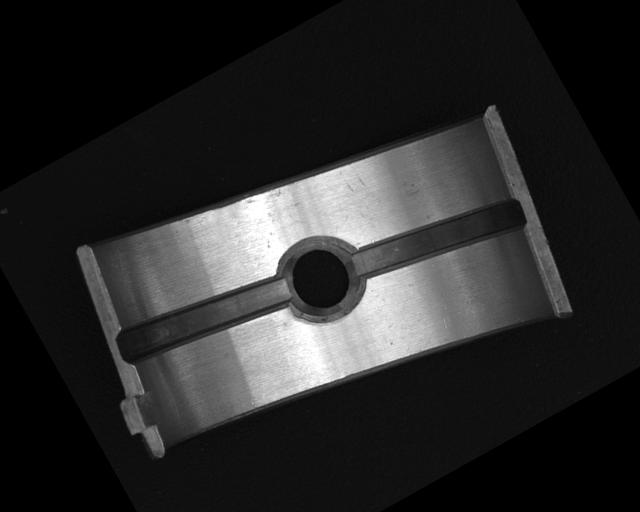gap: (112, 248, 298, 387), (345, 169, 529, 309)
hole: (270, 223, 373, 329)
